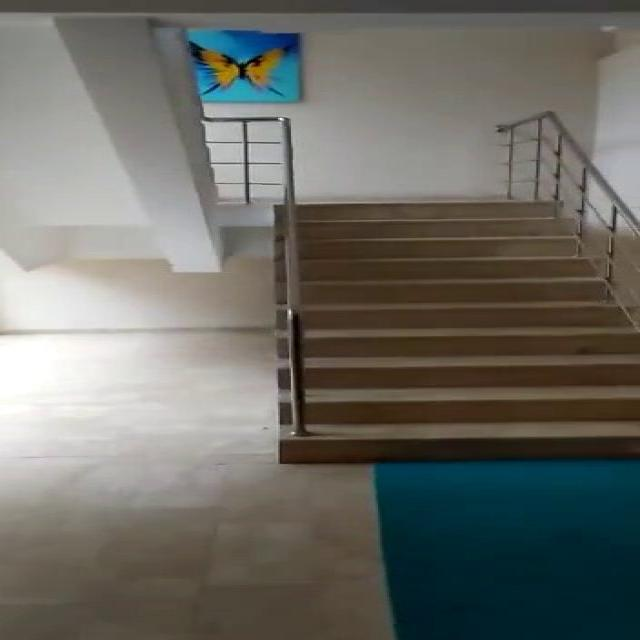stair: (270, 202, 640, 466)
